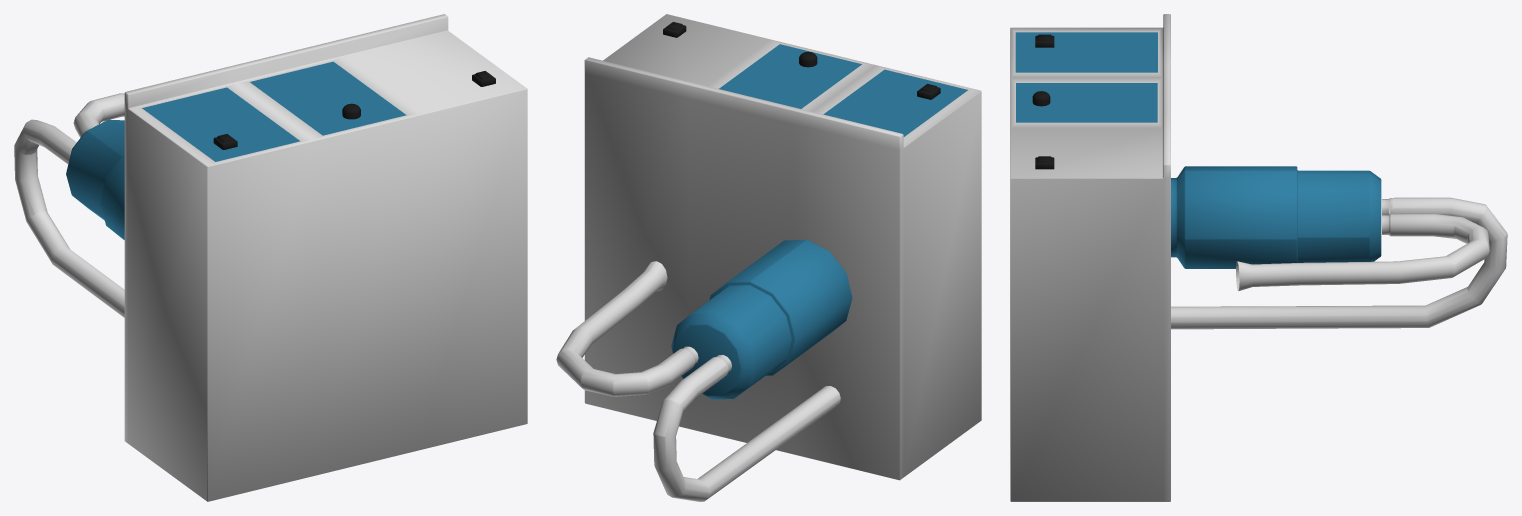
3 renders of one model, left to right at view 1: azimuth 30°, elevation 25°; view 2: azimuth 150°, elevation 25°; view 3: azimuth 270°, elevation 25°, orthographic. The views are drawn at different scales.
Visible parts, largest first — view 1: Cube.001; view 2: Cube.001; view 3: Cube.001.
Boxes of the visible parts, <box> form: Cube.001: <box>14,14,527,501</box>; Cube.001: <box>556,14,981,501</box>; Cube.001: <box>1010,14,1507,501</box>.
Bounding box in the file's own units: 30 × 31.26 × 41.74.
